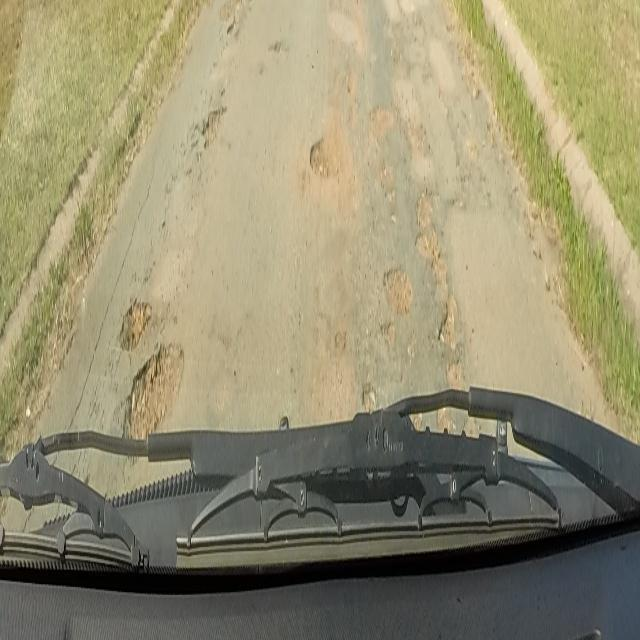pothole: (381, 184, 479, 388), (123, 334, 185, 436), (308, 130, 352, 186), (118, 290, 152, 348), (201, 101, 227, 151), (221, 0, 242, 35)
